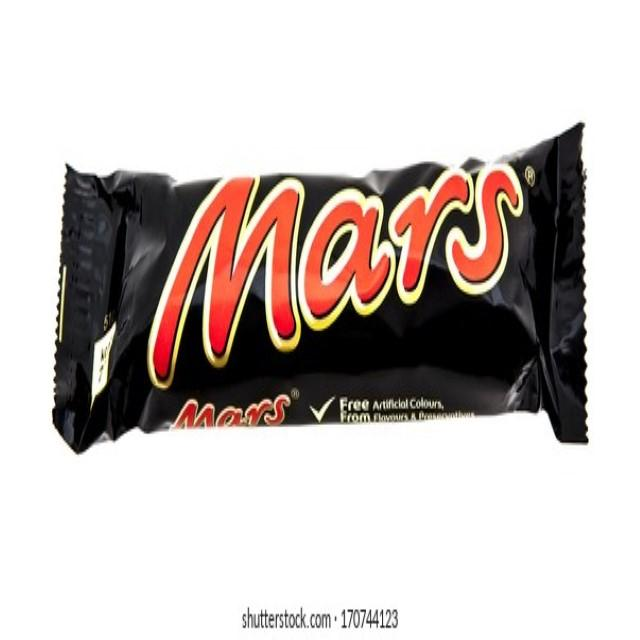mars_chocolate: (82, 155, 633, 460)
